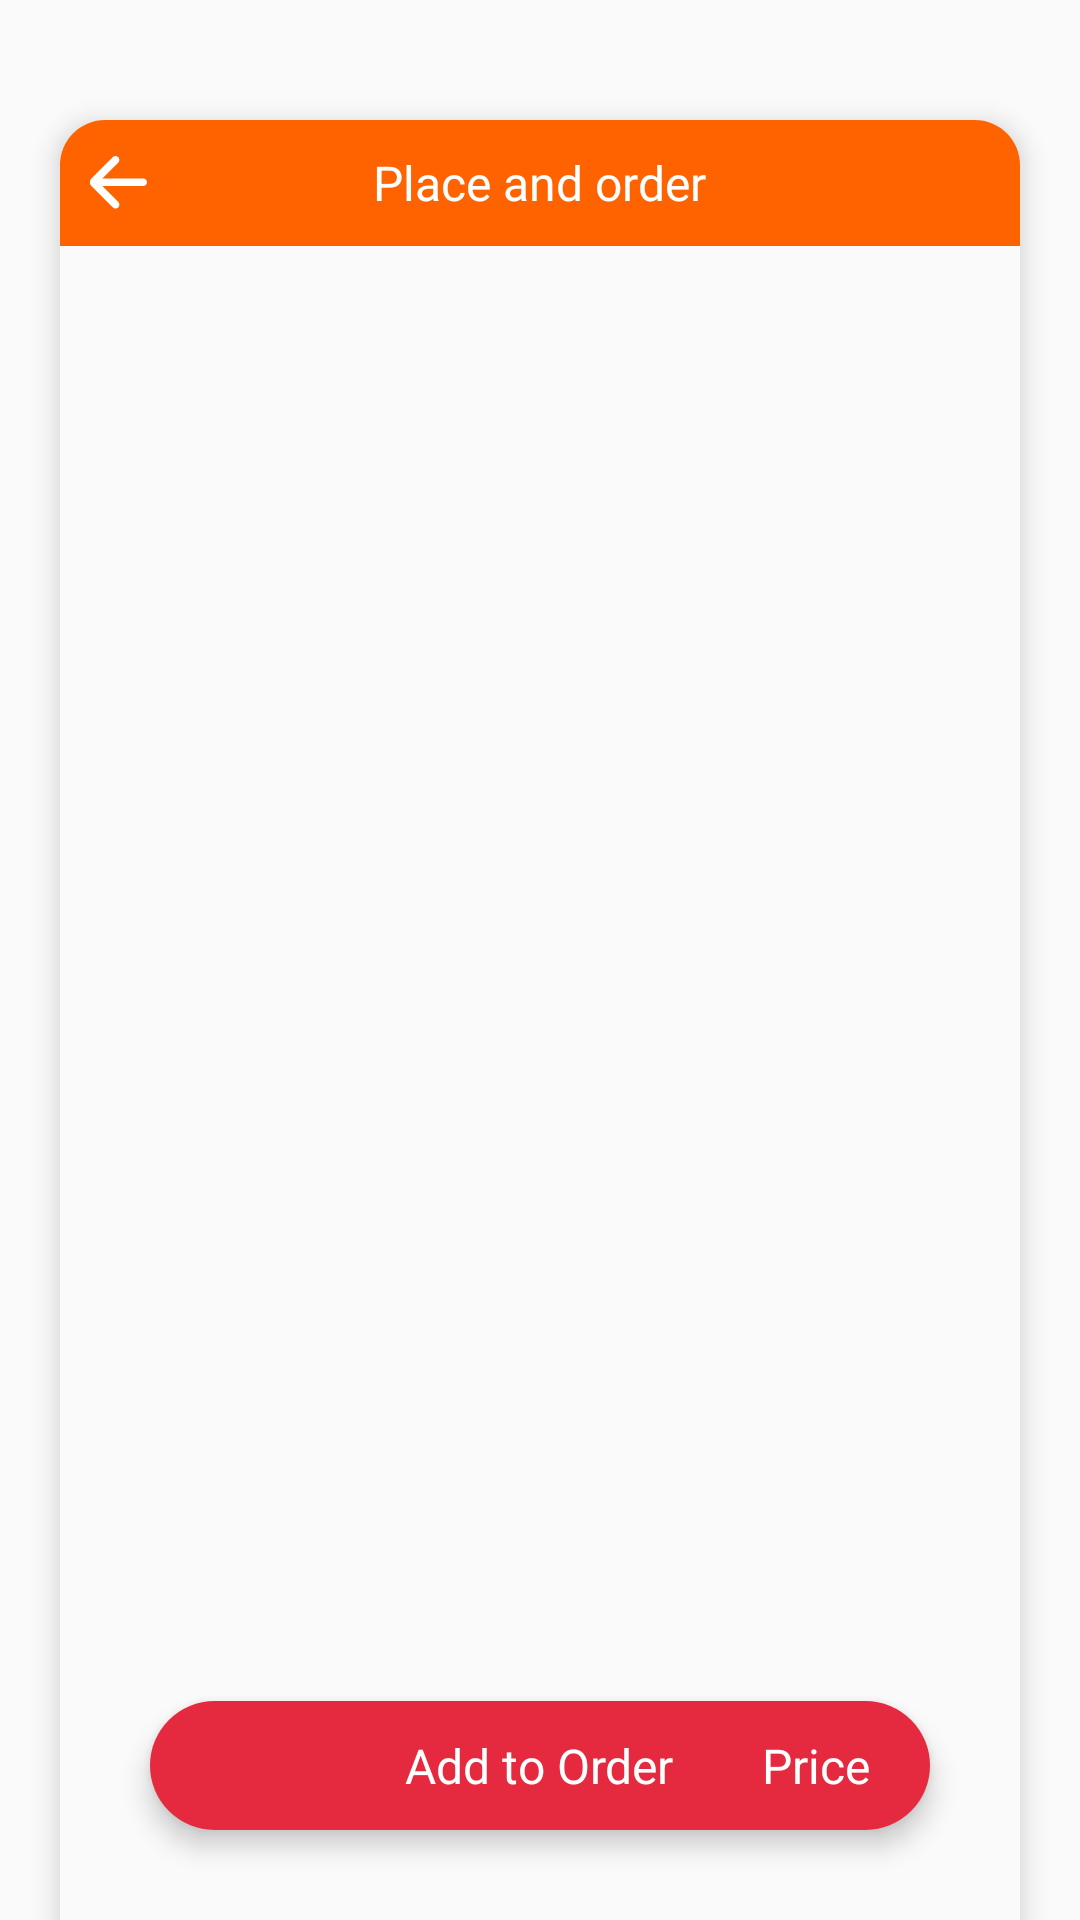

Locate icon controls on the screen. Image size 1080w x 1920h, boxes as bbox(x1, y1, x2, y2).
back standart: bbox(90, 156, 147, 209)
